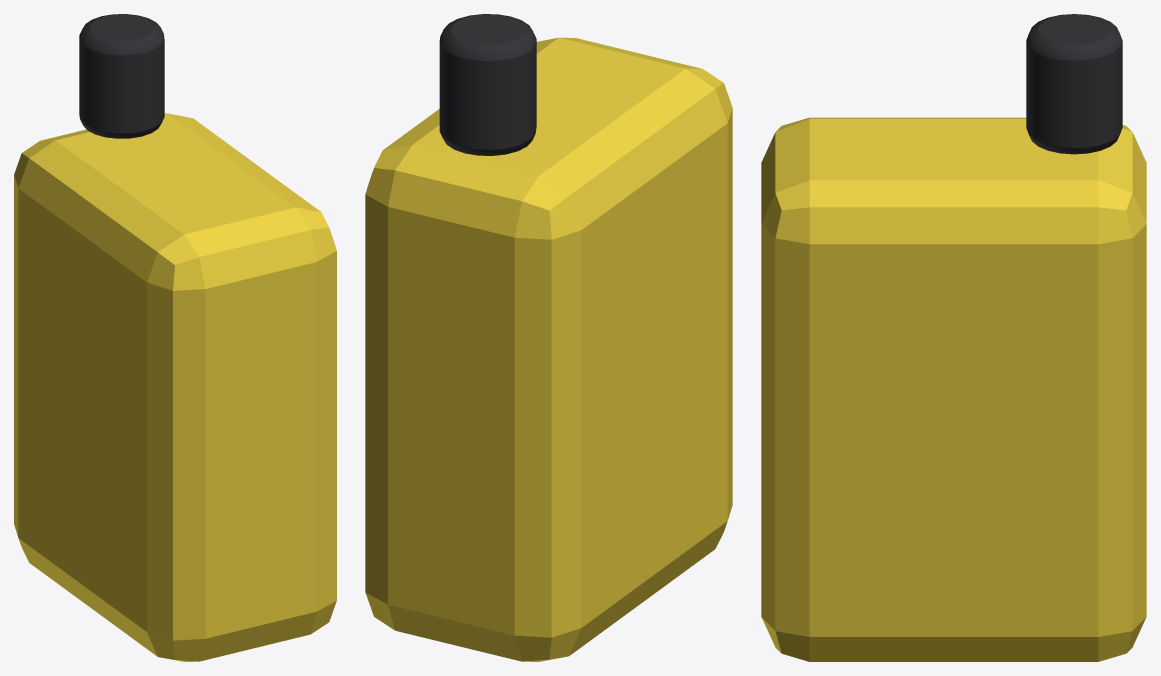
File: oil_bottle.glb
3 renders of one model, left to right at view 1: azimuth 30°, elevation 25°; view 2: azimuth 150°, elevation 25°; view 3: azimuth 270°, elevation 25°, orthographic. The views are drawn at different scales.
Visible parts, largest first — view 1: oil_bottle; view 2: oil_bottle; view 3: oil_bottle.
Part boxes in pixels (<box>): oil_bottle: <box>14,14,336,661</box>; oil_bottle: <box>365,14,732,661</box>; oil_bottle: <box>761,14,1146,661</box>.
Bounding box in the file's own units: 0.1 × 0.275 × 0.16.
